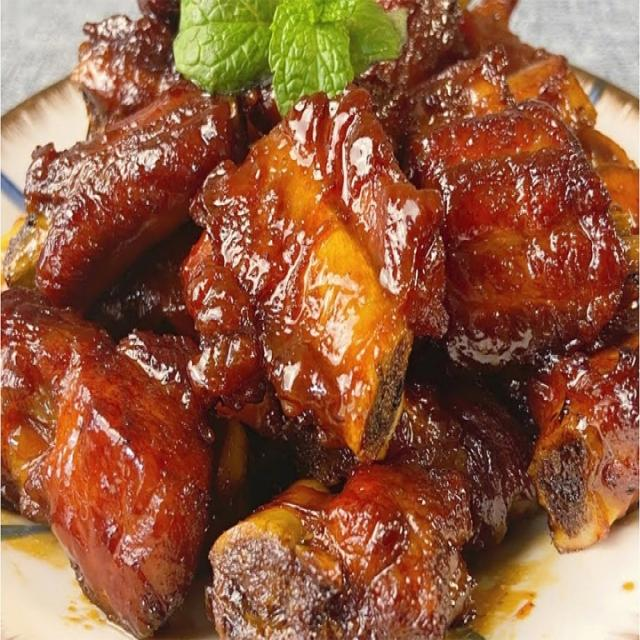suon xao: (0, 0, 637, 639)
